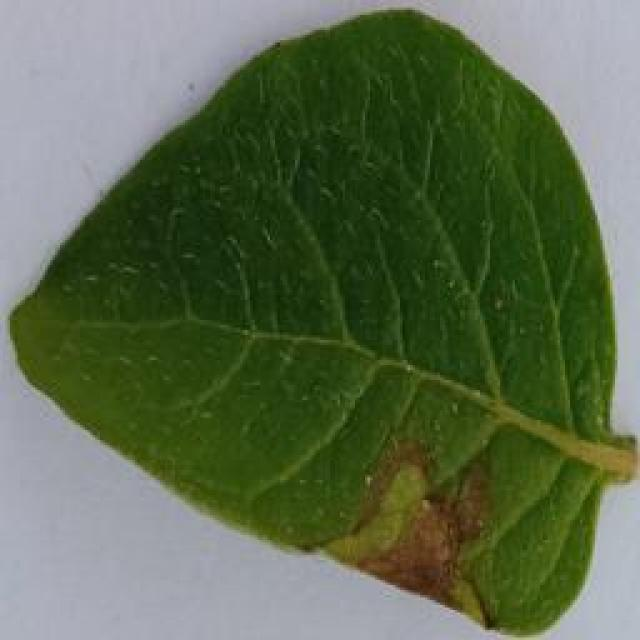Potato_Late_Blight: (20, 8, 640, 640)
